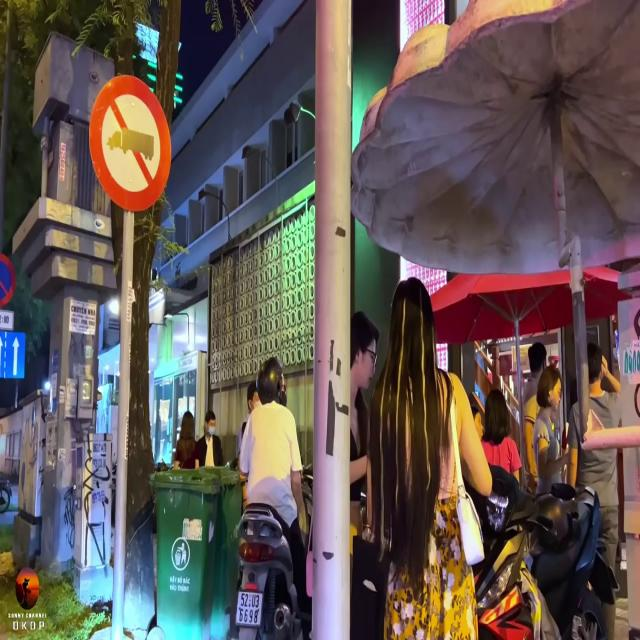bien_trang: (235, 586, 265, 628)
